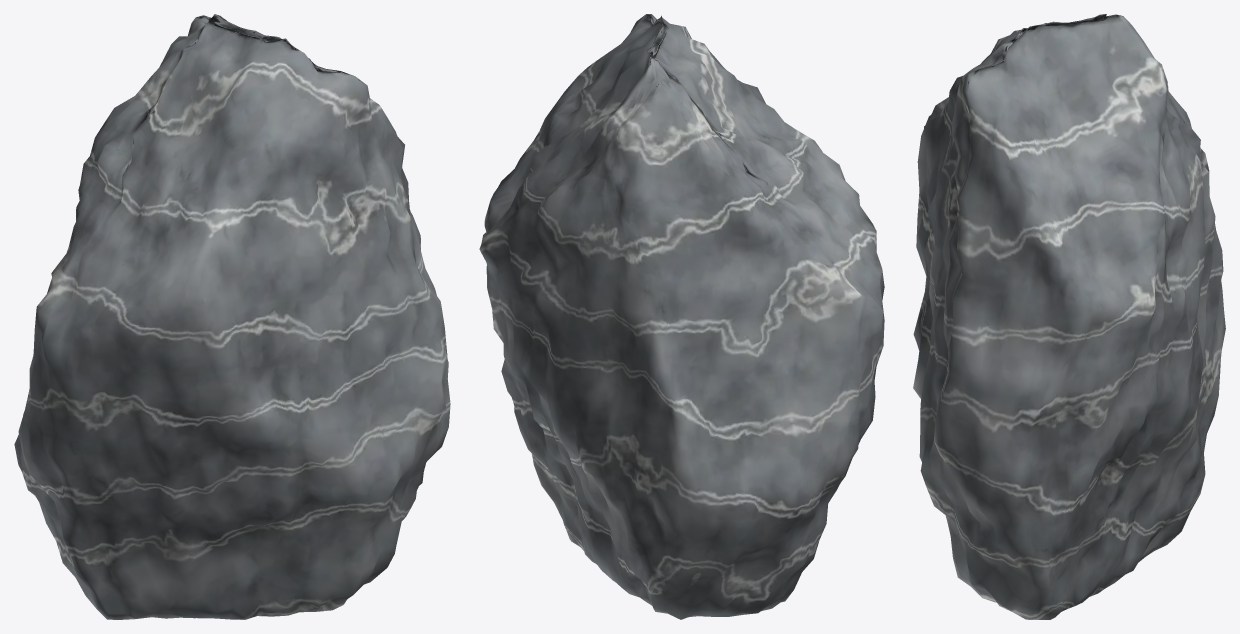
File: stone_a.glb
The picture shows the model from 3 angles, left to right: view 1: azimuth 30°, elevation 25°; view 2: azimuth 150°, elevation 25°; view 3: azimuth 270°, elevation 25°; orthographic projection. The views are drawn at different scales.
Parts seen in each view (by area): view 1: stone_a; view 2: stone_a; view 3: stone_a.
Part boxes in pixels (x1,y1,x2,y2): stone_a: (14, 14, 450, 619); stone_a: (479, 14, 884, 619); stone_a: (913, 14, 1225, 619).
Size of the model in its own units: 17.42 by 24.11 by 12.13.
Materials: 1 (1 with a texture image).
